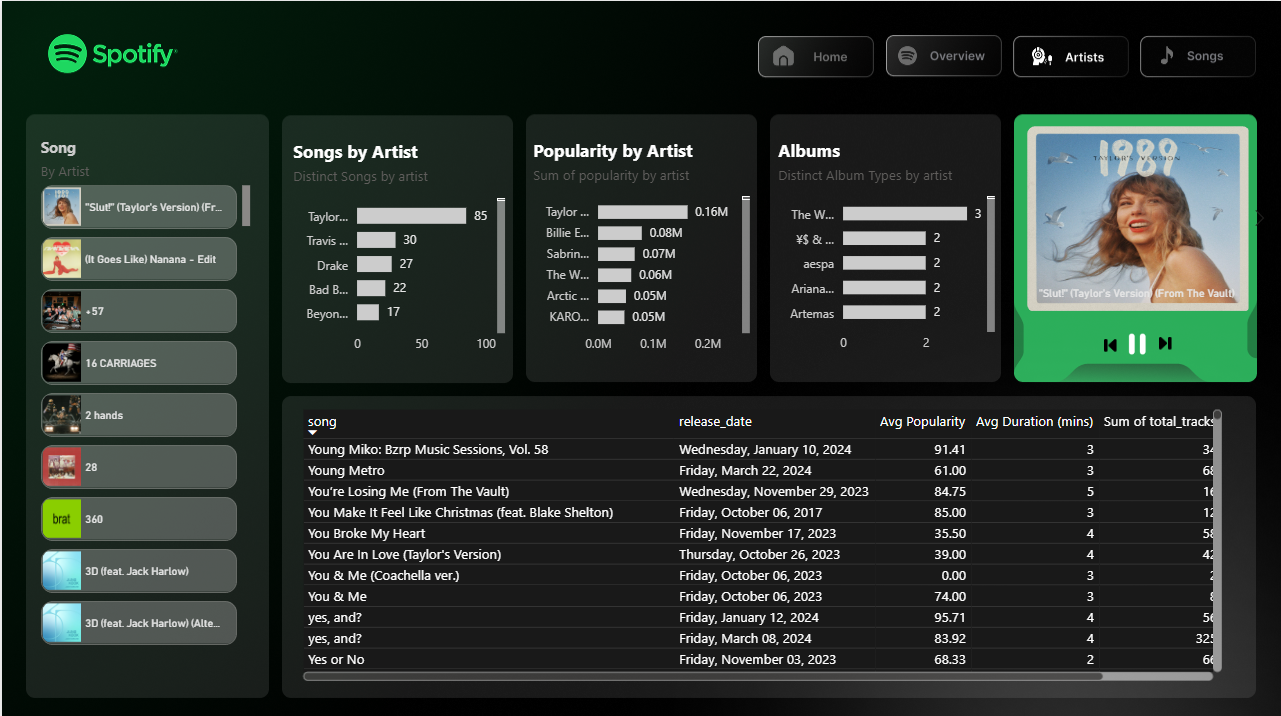

What the dashboard file says about the page in this screenshot:
{"tool":"powerbi","page":{"name":"Artists","canvas":[1280,720],"ordinal":2},"visuals":[{"type":"actionButton","box":[753.4,34.9,117.8,40.5],"z":0},{"type":"actionButton","box":[882.2,34.9,117.8,40.5],"z":1000},{"type":"actionButton","box":[1009.8,36.1,117.8,40.5],"z":2000},{"type":"actionButton","box":[1137.4,36.1,117.8,40.5],"z":3000},{"type":"advancedSlicerVisual","title":"Song ","fields":{"Values":["Top-50-World.song"]},"box":[998.8,119,274.9,197.6],"z":4000},{"type":"image","box":[1150.9,326.4,24.5,31.9],"z":5000},{"type":"image","box":[1095.7,330.1,24.5,29.4],"z":6000},{"type":"image","box":[1120.2,326.4,30.7,33.1],"z":7000},{"type":"advancedSlicerVisual","title":"Song ","fields":{"Values":["Top-50-World.song"]},"box":[34.4,136.2,219.6,516.6],"z":11000},{"type":"tableEx","fields":{"Values":["Top-50-World.song","Top-50-World.release_date","Top-50-World.Avg Popularity","Top-50-World.Avg Duration (mins)","Sum(Top-50-World.total_tracks)","Sum(Top-50-World.popularity)"]},"box":[294.5,403.7,930.1,281],"z":11001},{"type":"clusteredBarChart","title":"Songs by Artist","fields":{"Category":["Top-50-World.artist"],"Y":["Top-50-World.Distinct Songs"]},"box":[285.9,138.7,222.1,222.1],"z":11002},{"type":"clusteredBarChart","title":"Popularity by Artist","fields":{"Y":["Sum(Top-50-World.popularity)"],"Category":["Top-50-World.artist"]},"box":[526.4,137.4,227,223.3],"z":11003},{"type":"clusteredBarChart","title":"Albums","fields":{"Y":["Top-50-World.Distinct Album Types"],"Category":["Top-50-World.artist"]},"box":[771.8,137.4,227,222.1],"z":11004}]}

Visuals, with their boxes in screenshot pixels (x1, y1, x2, y2), scaled from the page's 1280x720 canvas onto the 1281x716 screenshot:
actionButton: box=[754, 35, 872, 75]
actionButton: box=[883, 35, 1001, 75]
actionButton: box=[1011, 36, 1128, 76]
actionButton: box=[1138, 36, 1256, 76]
"Song " advancedSlicerVisual: box=[1000, 118, 1275, 315]
image: box=[1152, 325, 1176, 356]
image: box=[1097, 328, 1121, 358]
image: box=[1121, 325, 1152, 358]
"Song " advancedSlicerVisual: box=[34, 135, 254, 649]
tableEx - Top-50-World.song x Top-50-World.release_date: box=[295, 401, 1226, 681]
"Songs by Artist" clusteredBarChart: box=[286, 138, 508, 359]
"Popularity by Artist" clusteredBarChart: box=[527, 137, 754, 359]
"Albums" clusteredBarChart: box=[772, 137, 1000, 358]
